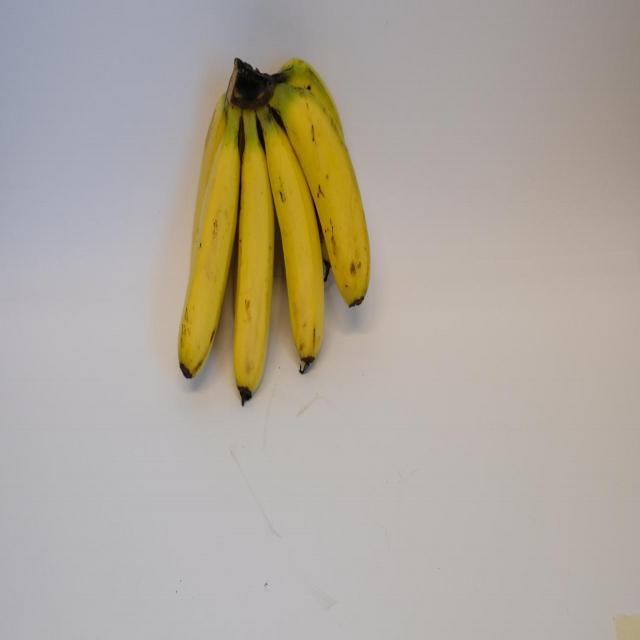banana: (280, 80, 385, 314), (258, 119, 338, 373), (170, 134, 242, 383), (228, 126, 278, 421)
